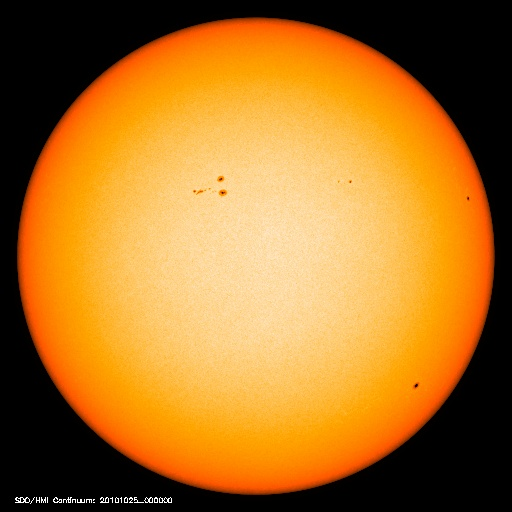sunspot: (185, 170, 236, 203), (329, 170, 361, 195), (401, 373, 427, 397), (455, 187, 481, 209)
